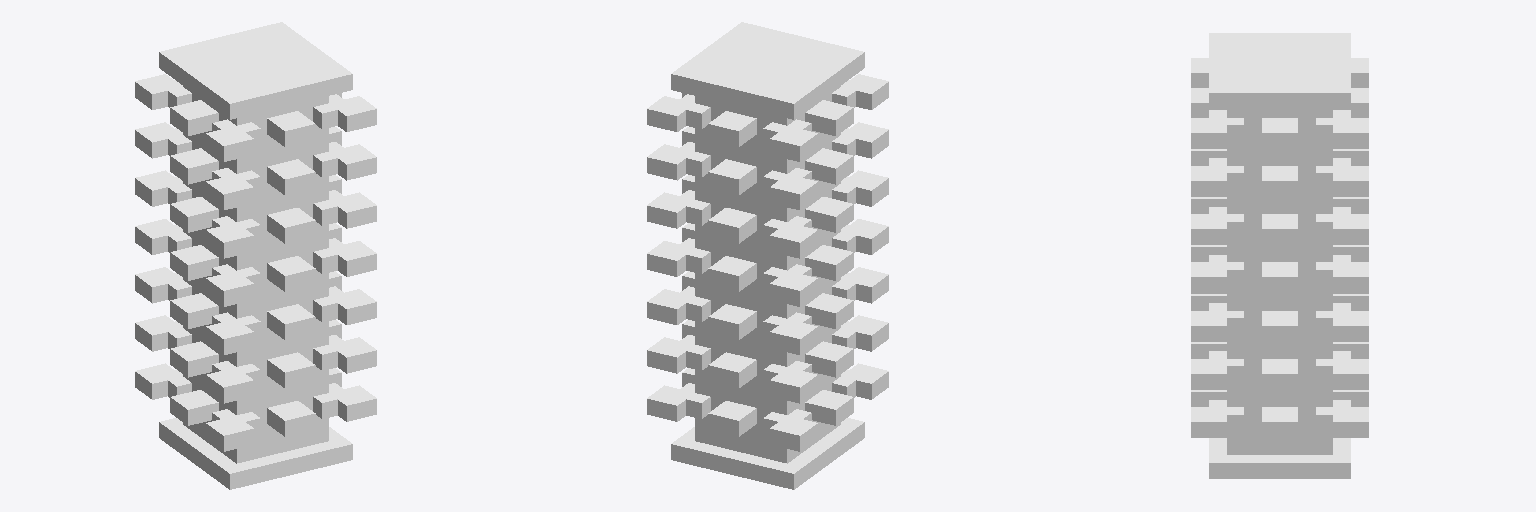
Rendered from hazard.obj.
The picture shows the model from 3 angles: view 1: azimuth 30°, elevation 25°; view 2: azimuth 150°, elevation 25°; view 3: azimuth 270°, elevation 25°; orthographic projection.
Visible parts, largest first — view 1: object 1; view 2: object 1; view 3: object 1.
Boxes of the visible parts, <box> form: object 1: <box>135,22,376,489</box>; object 1: <box>647,22,888,489</box>; object 1: <box>1191,33,1368,478</box>.
Bounding box in the file's own units: 1 × 2.4 × 1.